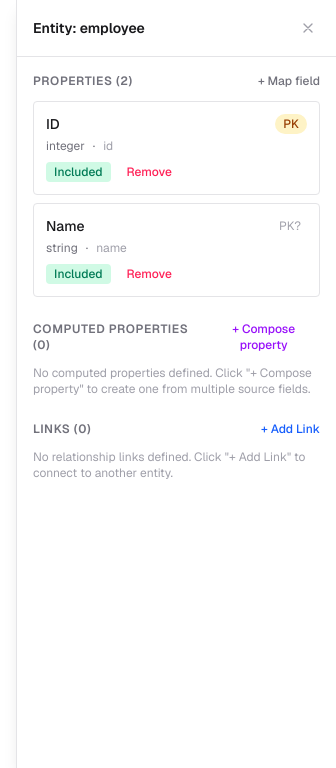
Scenario: NodeEditDrawer › opens field mapper when '+ Map field' is clicked
Click the button "+ Map field" at (289, 81), box x1=258 y1=73 x2=320 y2=89
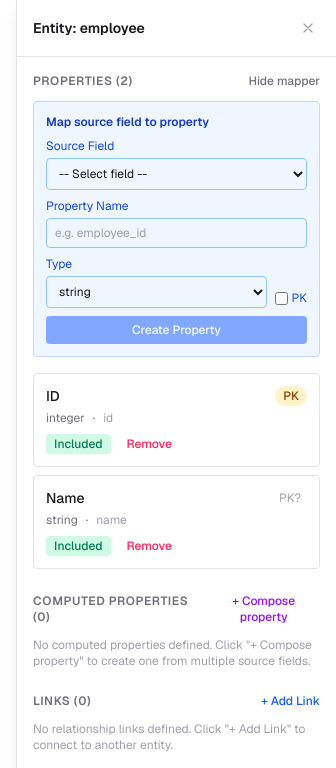
Expected: the heading "Map source field to property" is shown, x1=46 y1=114 x2=209 y2=130
Expected: the button "Create Property" is shown, x1=46 y1=316 x2=307 y2=344
